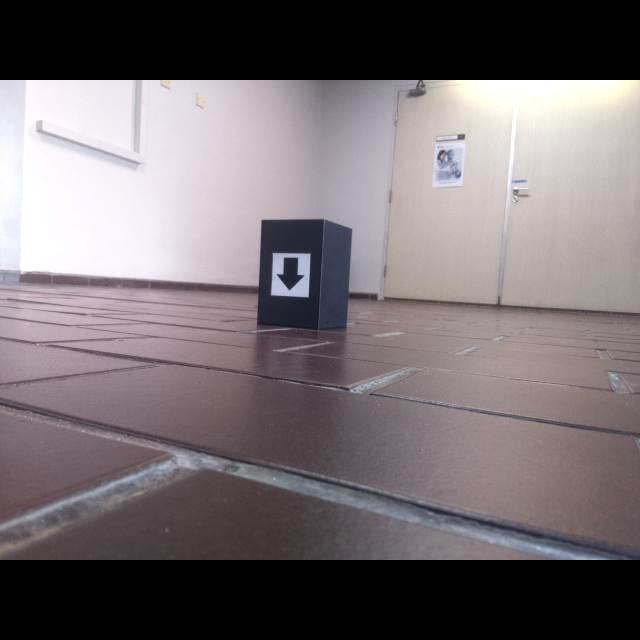DOWN: (275, 257, 306, 292)
